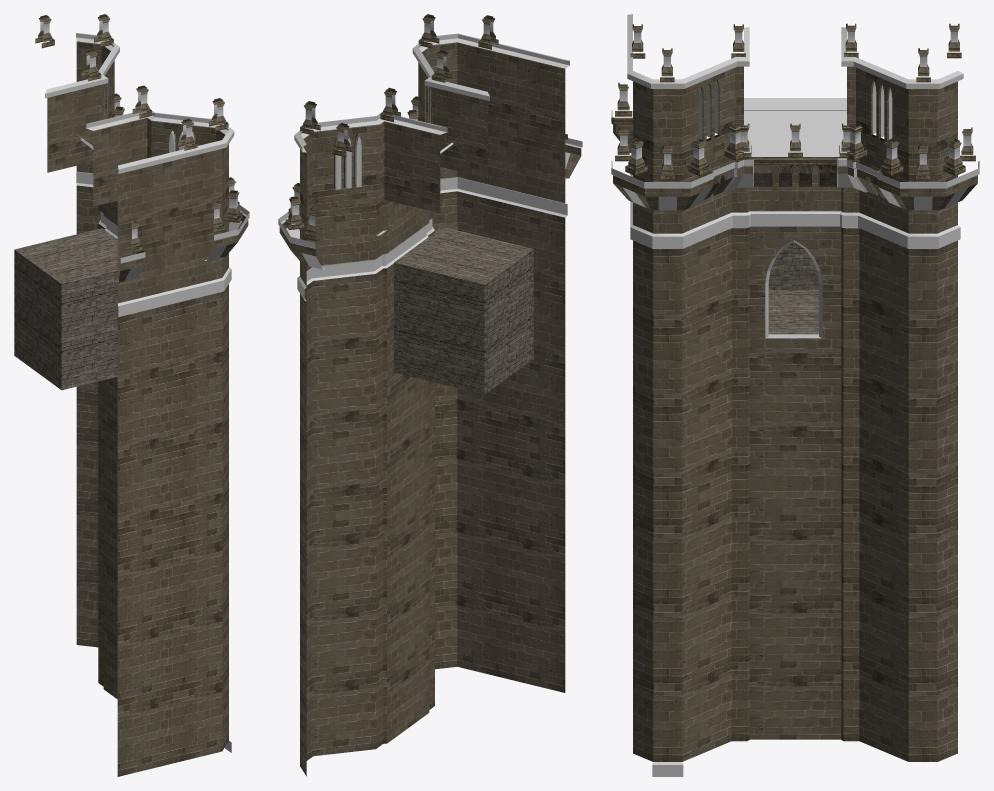
Rendered from SM_BridgeBuilding.FBX.
3 renders of one model, left to right at view 1: azimuth 30°, elevation 25°; view 2: azimuth 150°, elevation 25°; view 3: azimuth 270°, elevation 25°, orthographic. The views are drawn at different scales.
Parts seen in each view (by area): view 1: SM_BridgeBuilding; view 2: SM_BridgeBuilding; view 3: SM_BridgeBuilding.
Part boxes in pixels (x1,y1,x2,y2): SM_BridgeBuilding: [14, 14, 249, 776]; SM_BridgeBuilding: [278, 14, 582, 776]; SM_BridgeBuilding: [611, 14, 979, 776].
Size of what is drawn, in the model's own units: 1441 by 2747 by 5972.
